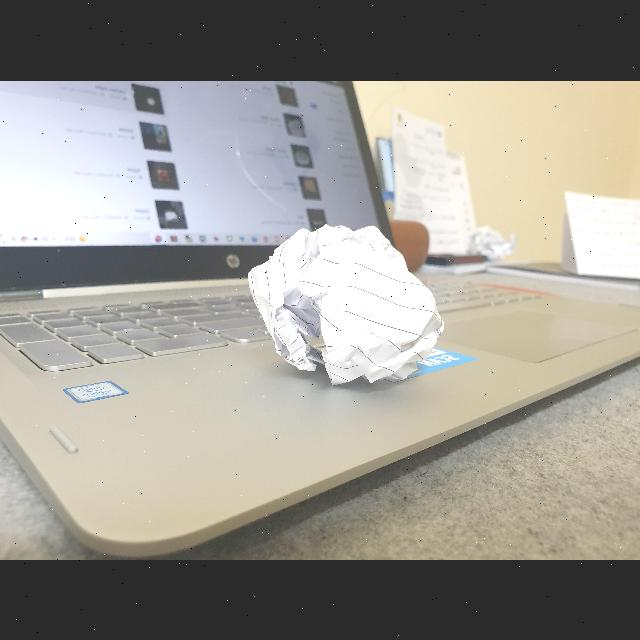trash: (234, 211, 450, 407)
